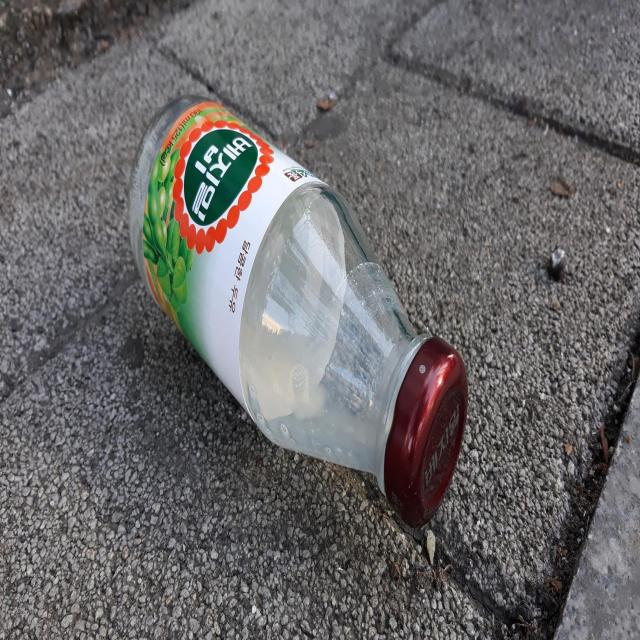glass: (128, 96, 469, 528)
